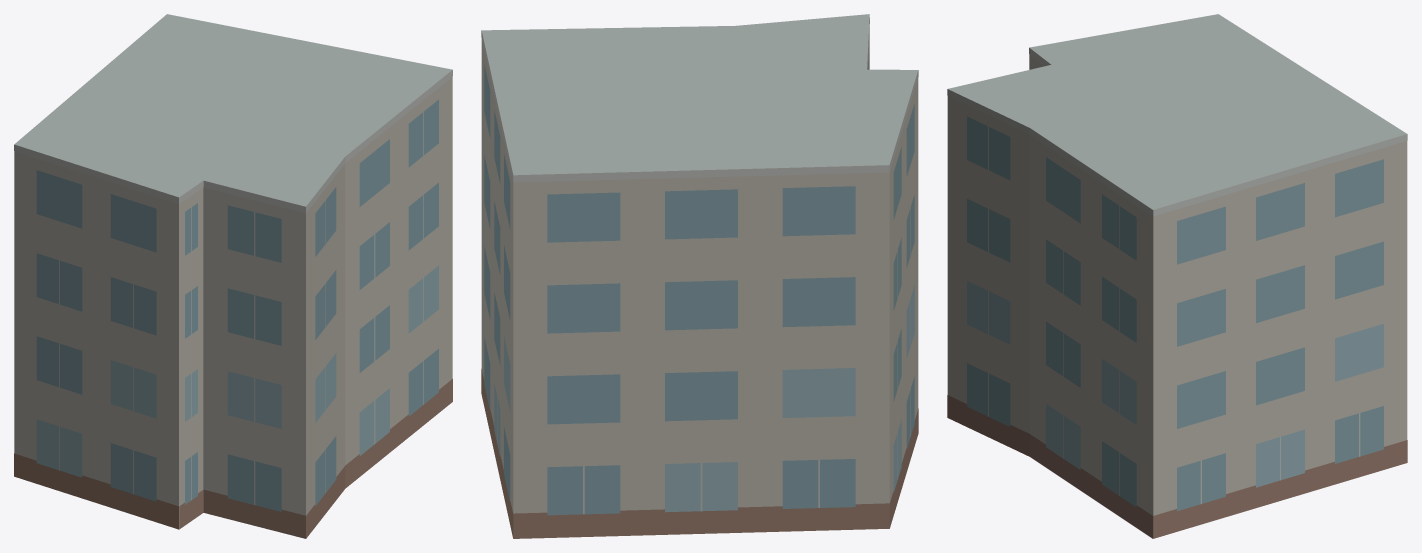
Rendered from survey-upis-32644078.glb.
3 renders of one model, left to right at view 1: azimuth 30°, elevation 25°; view 2: azimuth 150°, elevation 25°; view 3: azimuth 270°, elevation 25°, orthographic. The views are drawn at different scales.
Parts seen in each view (by area): view 1: survey-upis-32644078.tmp; view 2: survey-upis-32644078.tmp; view 3: survey-upis-32644078.tmp.
Part boxes in pixels (x1,y1,x2,y2): survey-upis-32644078.tmp: (14, 14, 452, 538); survey-upis-32644078.tmp: (481, 14, 918, 538); survey-upis-32644078.tmp: (947, 14, 1407, 538).
Size of the model in its own units: 15.6 by 12.2 by 15.47.
